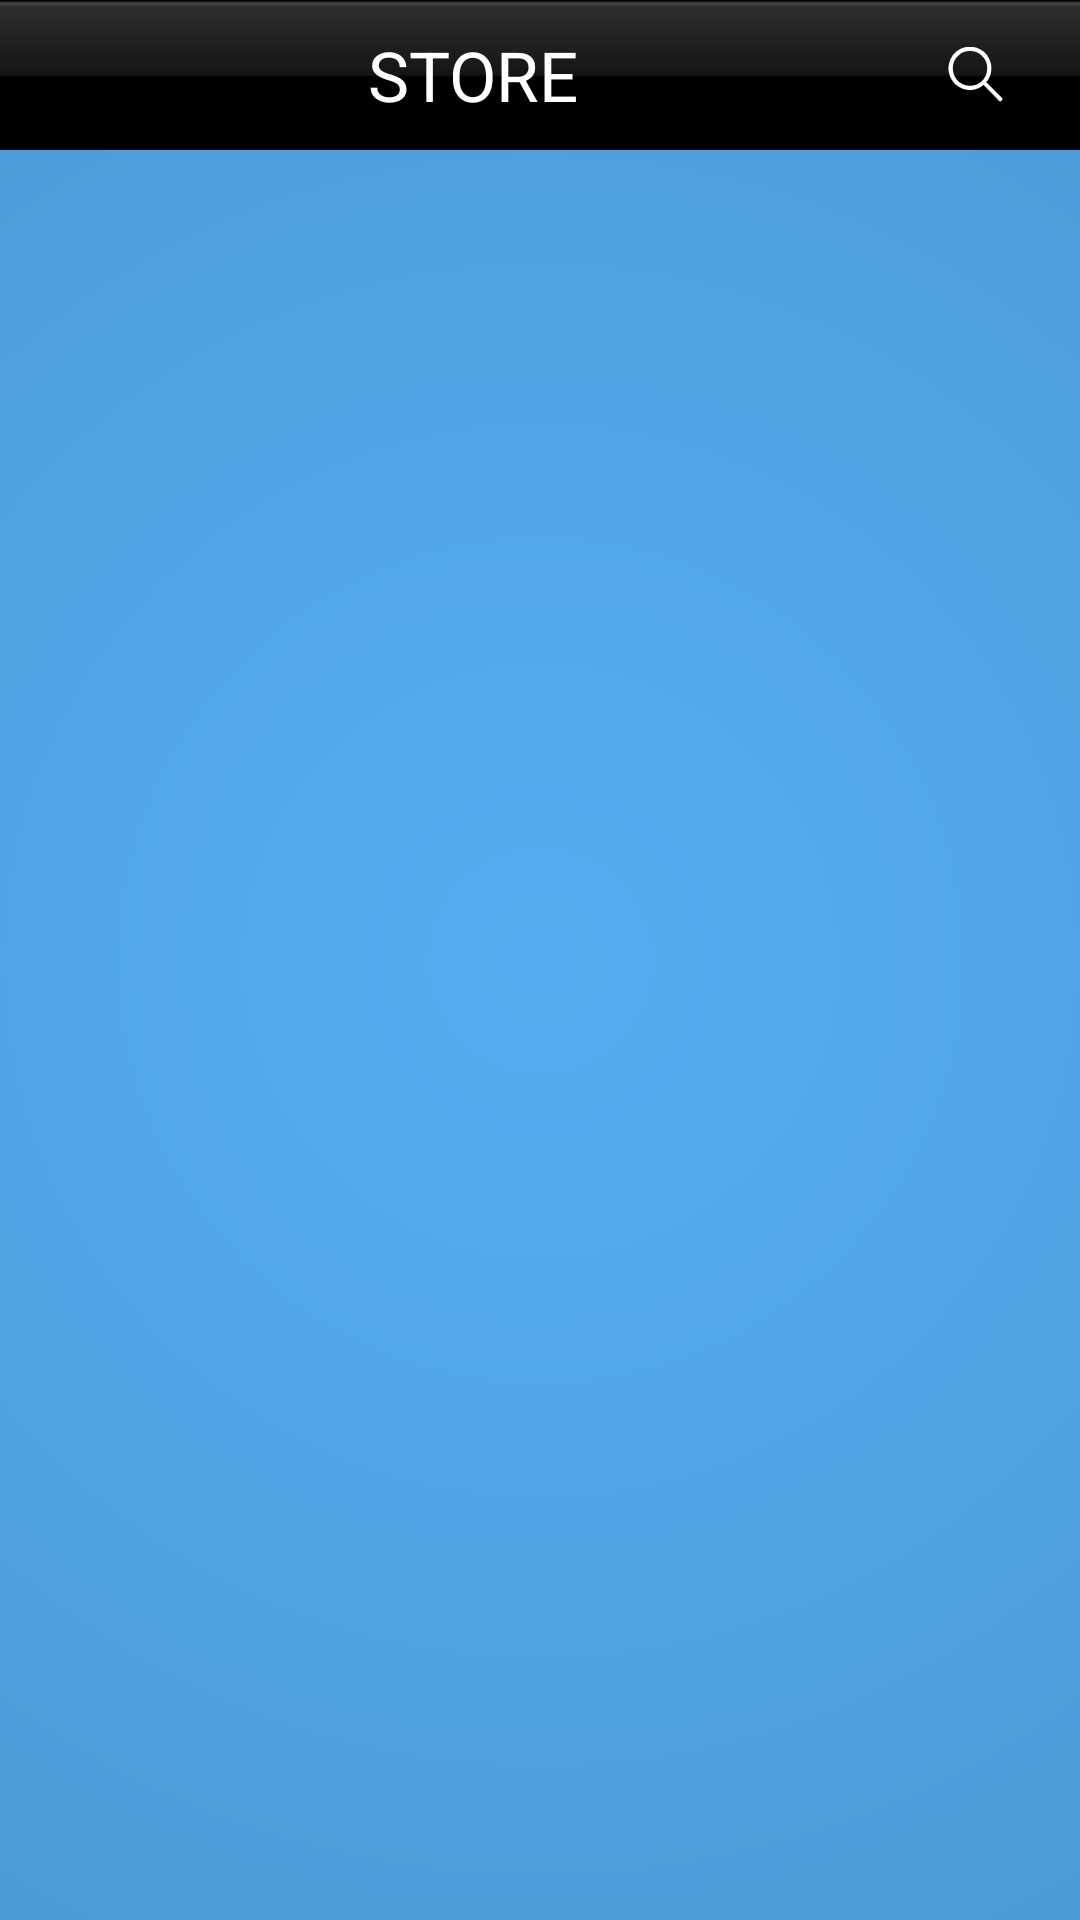

Icons on this 1080 x 1920 Android screen, each with the point to tap as point (x, y):
playlist search: point (975, 74)
